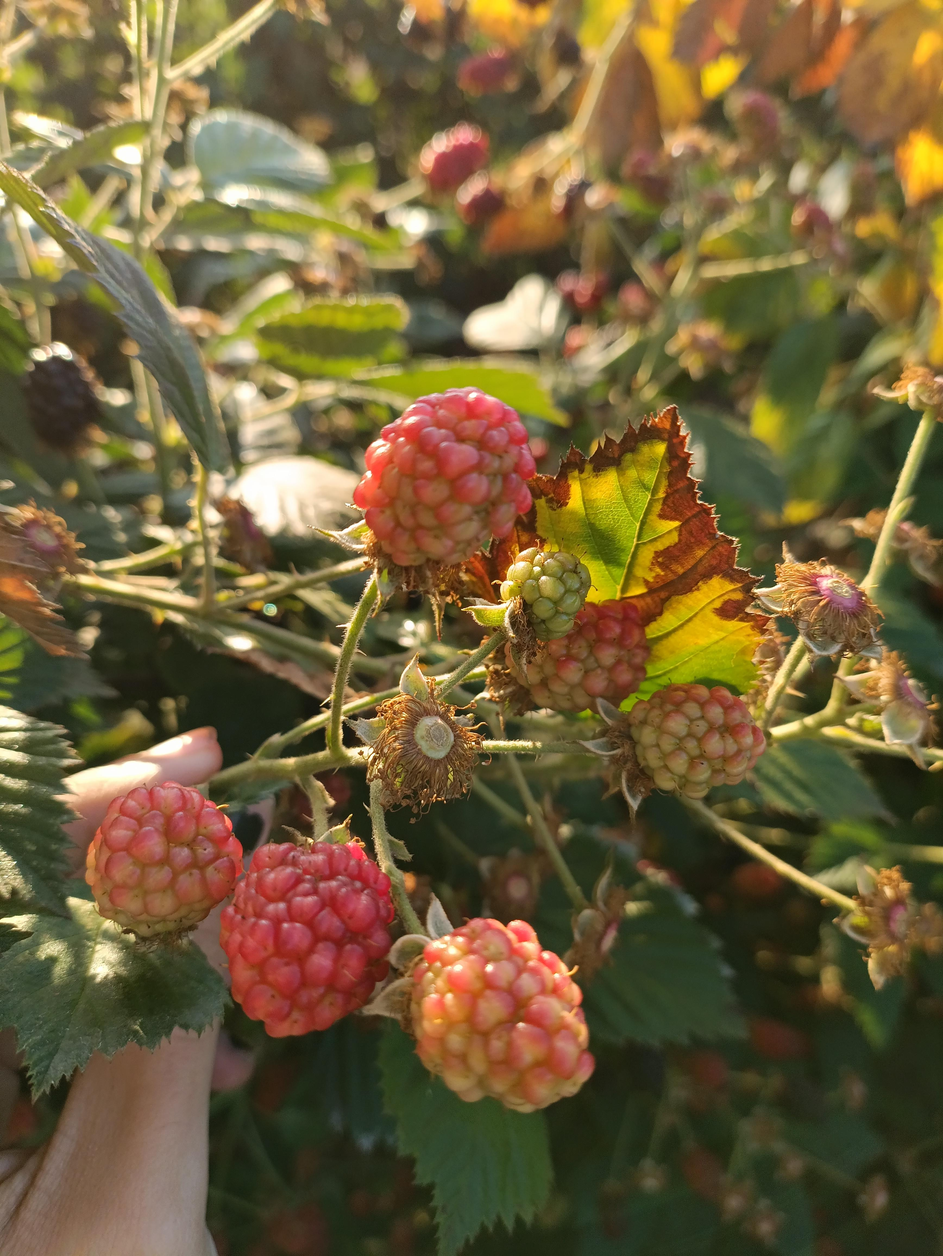naranja: (409, 918, 594, 1113), (221, 841, 394, 1036), (354, 389, 534, 566)
verde: (85, 782, 242, 936), (628, 684, 765, 799), (500, 547, 590, 642)
